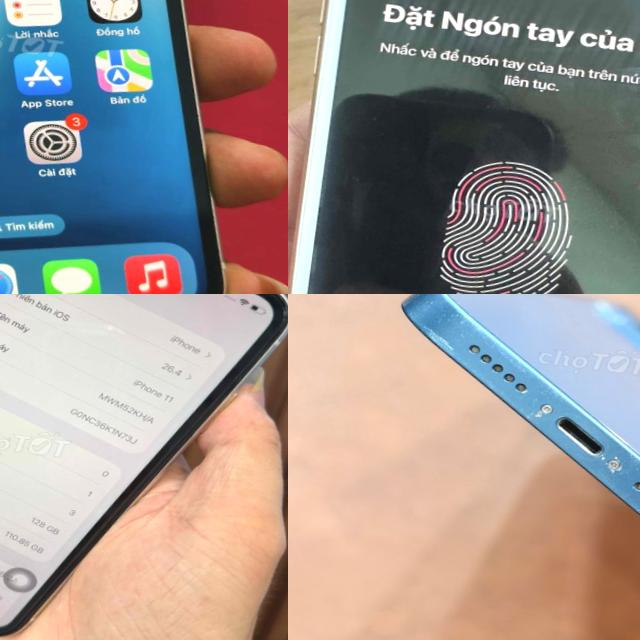gen_11: (0, 294, 288, 634)
gen_12_13: (356, 294, 640, 621), (0, 0, 288, 294)
gen_7_8: (288, 0, 640, 294)
scratch: (376, 294, 640, 568)
